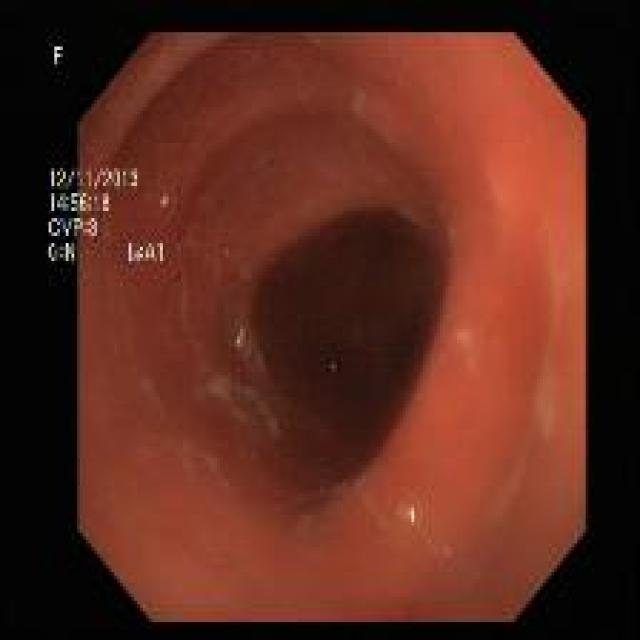ulcerative-colitis: (76, 33, 585, 621)
